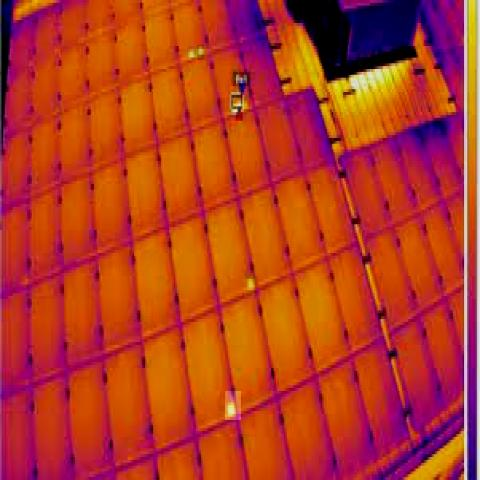fault: (225, 391, 241, 420), (244, 273, 260, 293), (187, 46, 196, 63), (197, 45, 204, 60)
